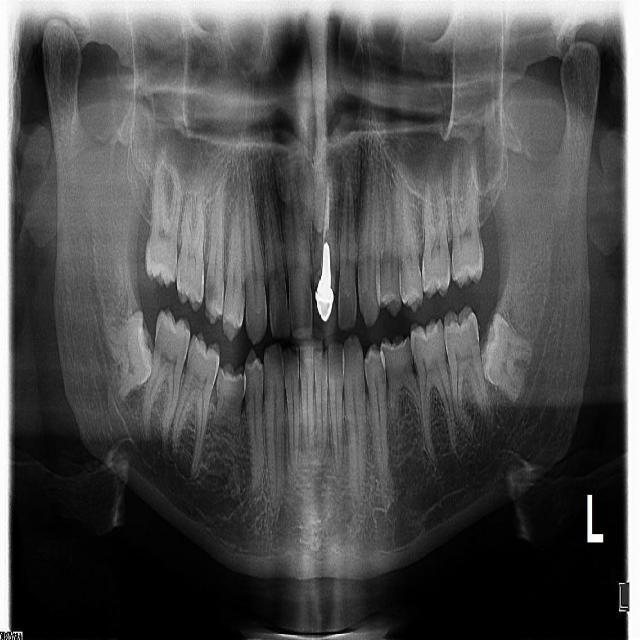71: (317, 241, 339, 301)
74: (323, 177, 331, 242)
Zimmer Implant: (312, 280, 335, 338)
